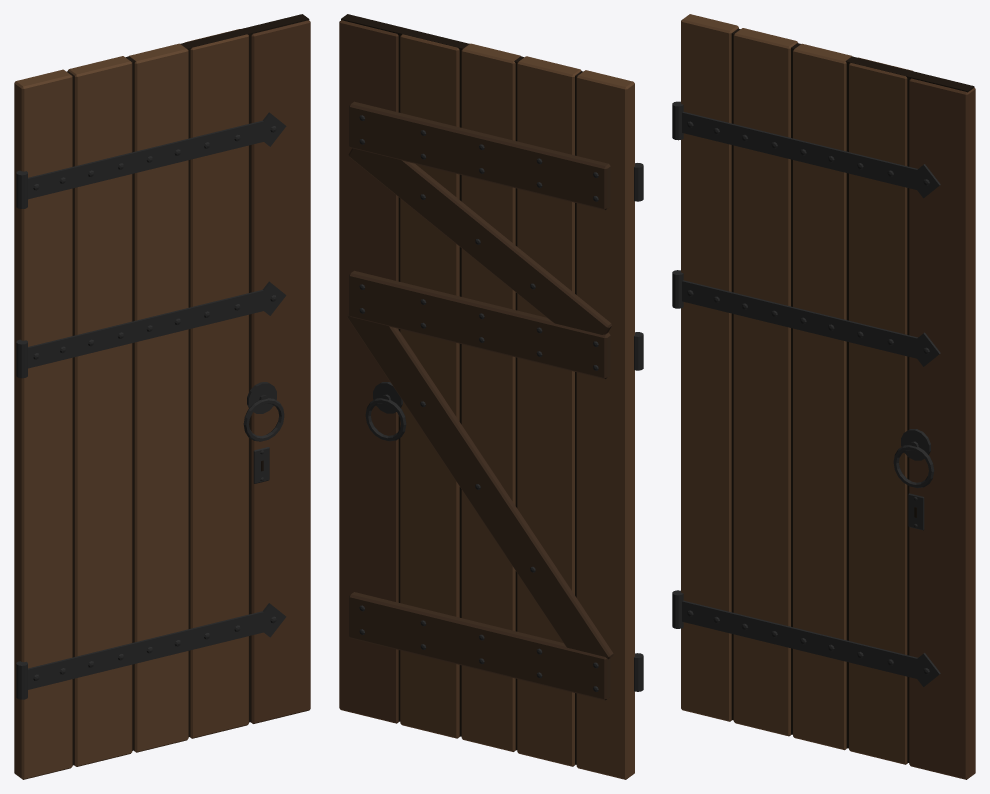
File: puerta.glb
The picture shows the model from 3 angles, left to right: view 1: azimuth 30°, elevation 25°; view 2: azimuth 150°, elevation 25°; view 3: azimuth 330°, elevation 25°; orthographic projection.
Parts seen in each view (by area): view 1: PuertaSala_hoja, Aldaba; view 2: PuertaSala_hoja, Aldaba; view 3: PuertaSala_hoja, Aldaba.
Boxes of the visible parts, x1=… form: PuertaSala_hoja: x1=14, y1=14, x2=310, y2=779; Aldaba: x1=243, y1=382, x2=284, y2=441; PuertaSala_hoja: x1=339, y1=14, x2=643, y2=779; Aldaba: x1=365, y1=382, x2=406, y2=441; PuertaSala_hoja: x1=672, y1=14, x2=975, y2=779; Aldaba: x1=893, y1=429, x2=934, y2=488.
Bounding box in the file's own units: 0.9117 × 2.05 × 0.1079.
